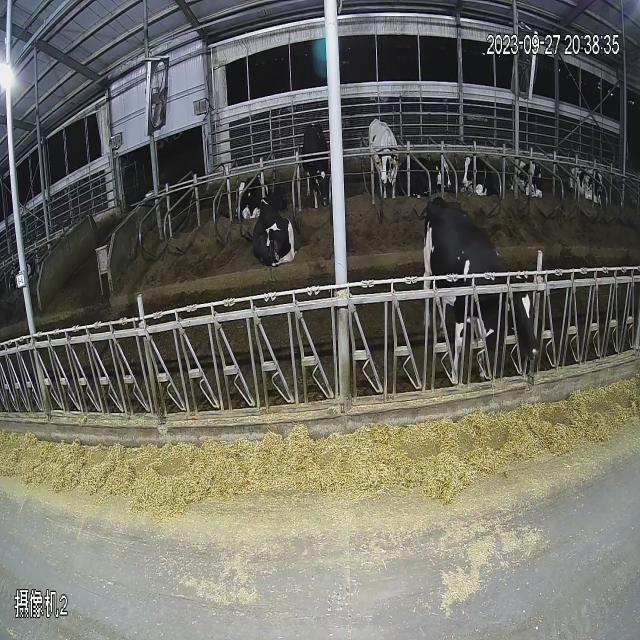lying down: (405, 113, 640, 216), (258, 177, 298, 306), (1, 220, 56, 296), (233, 162, 267, 224)
standing: (414, 187, 562, 494), (295, 111, 353, 232), (360, 91, 408, 232)
